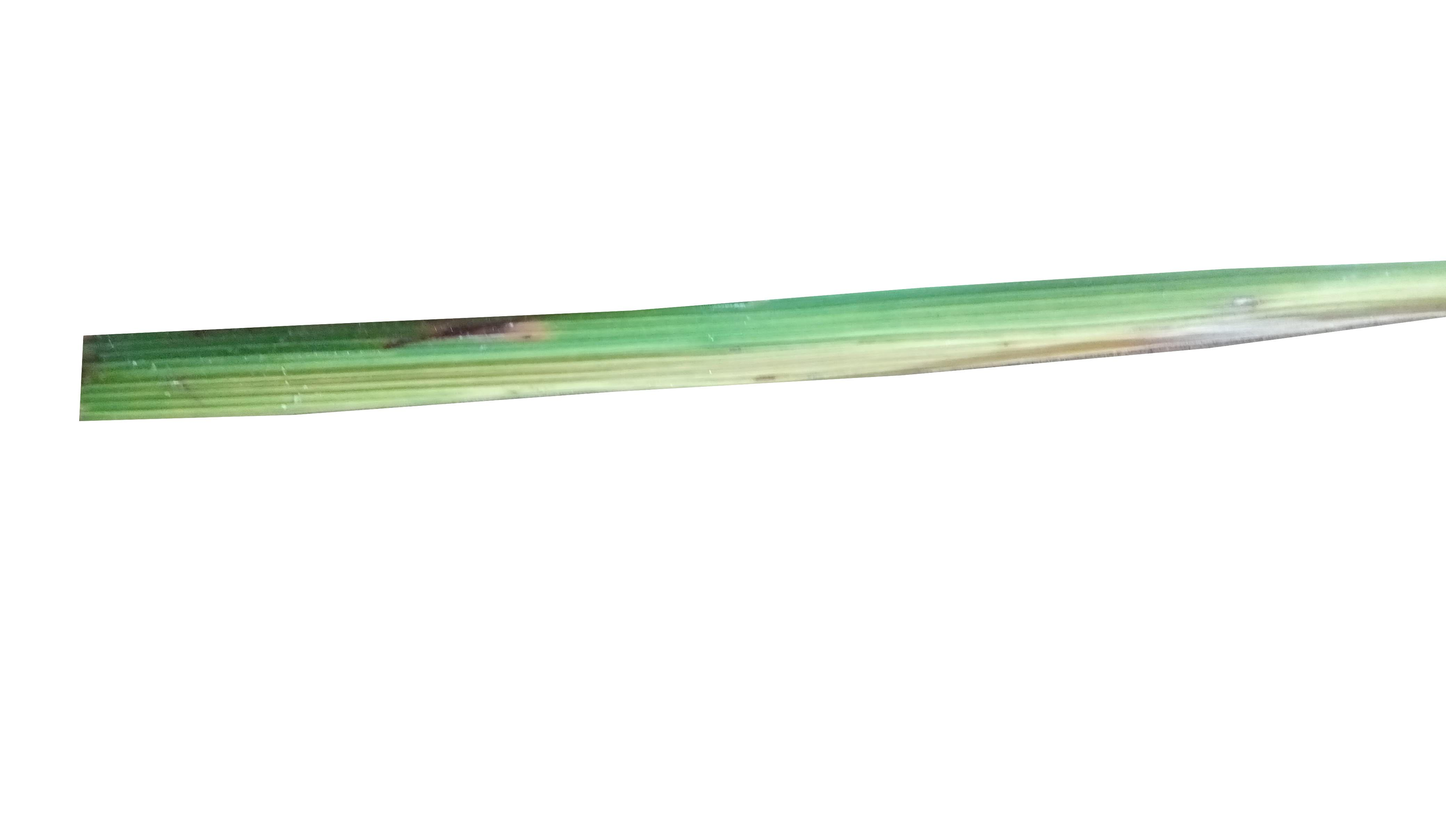Rice blast: (370, 302, 563, 367)
